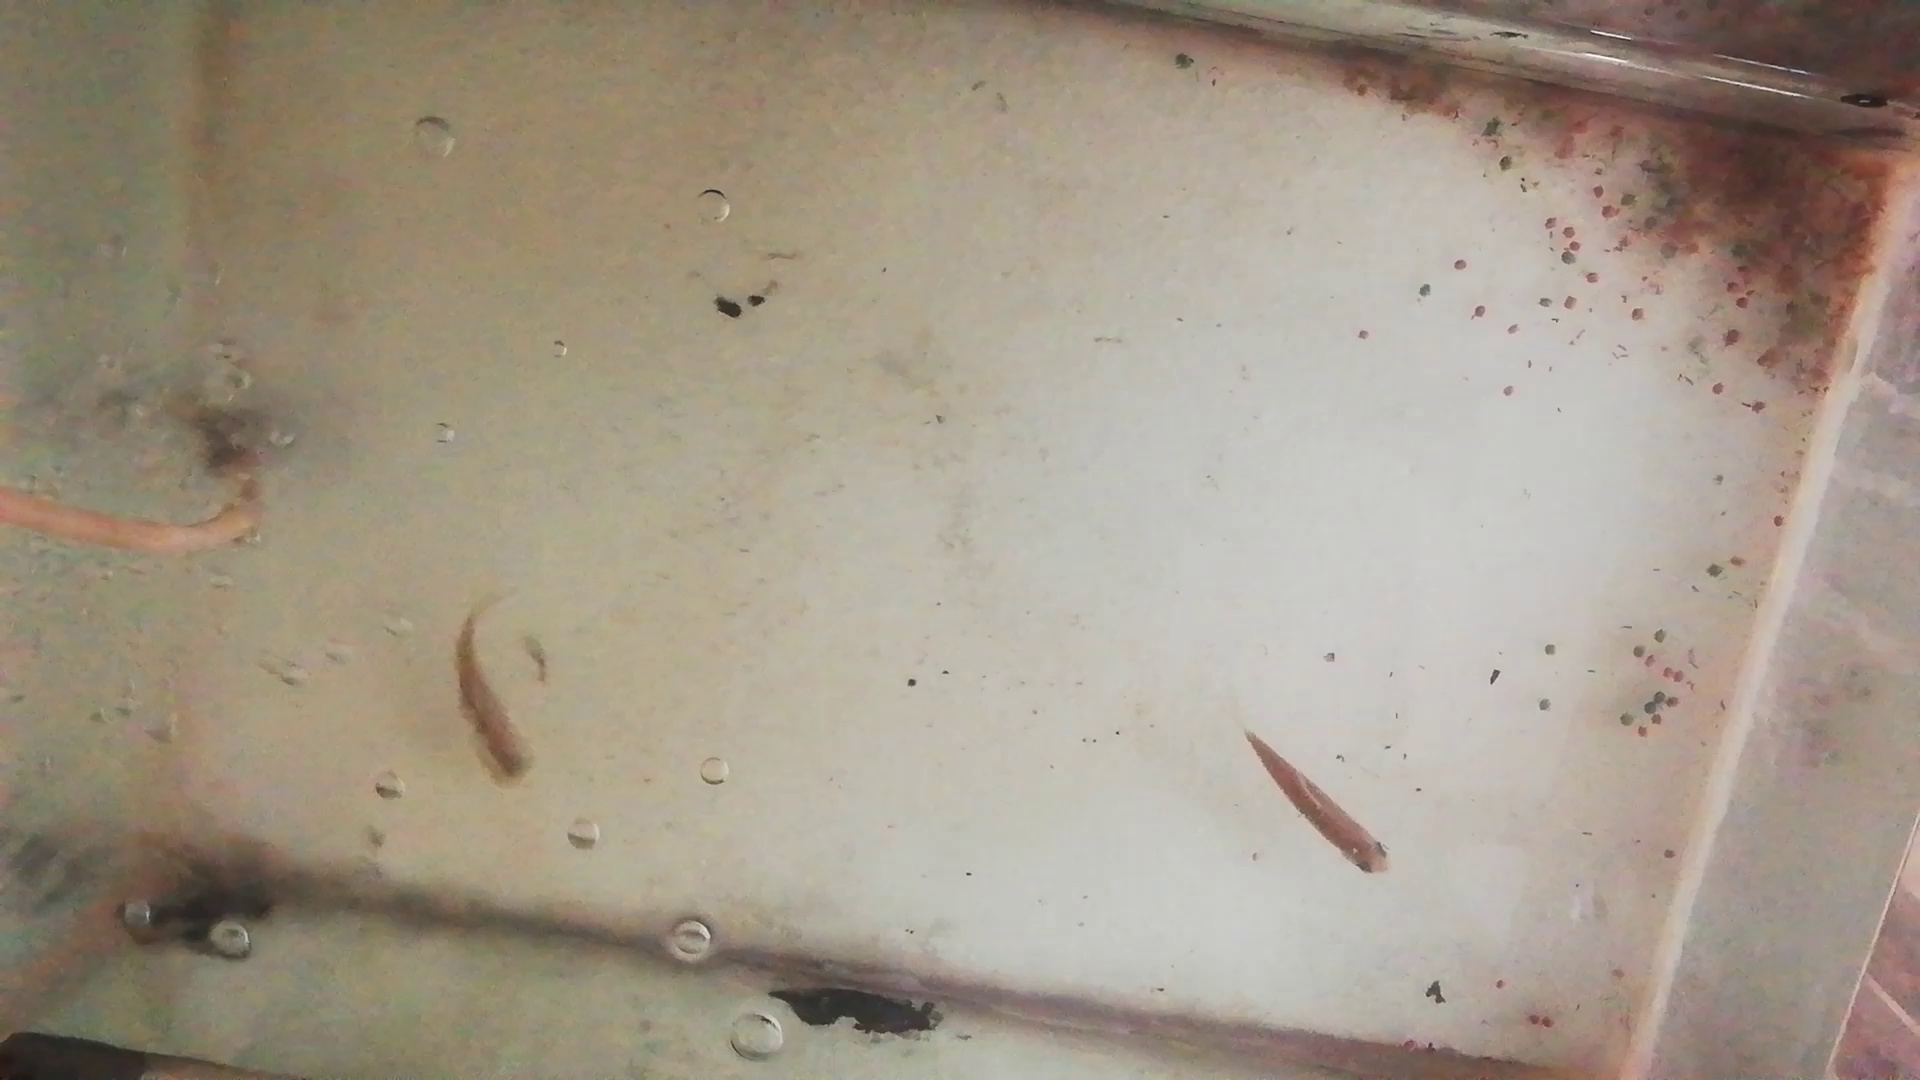fish: (1244, 736, 1393, 882), (452, 622, 538, 789)
